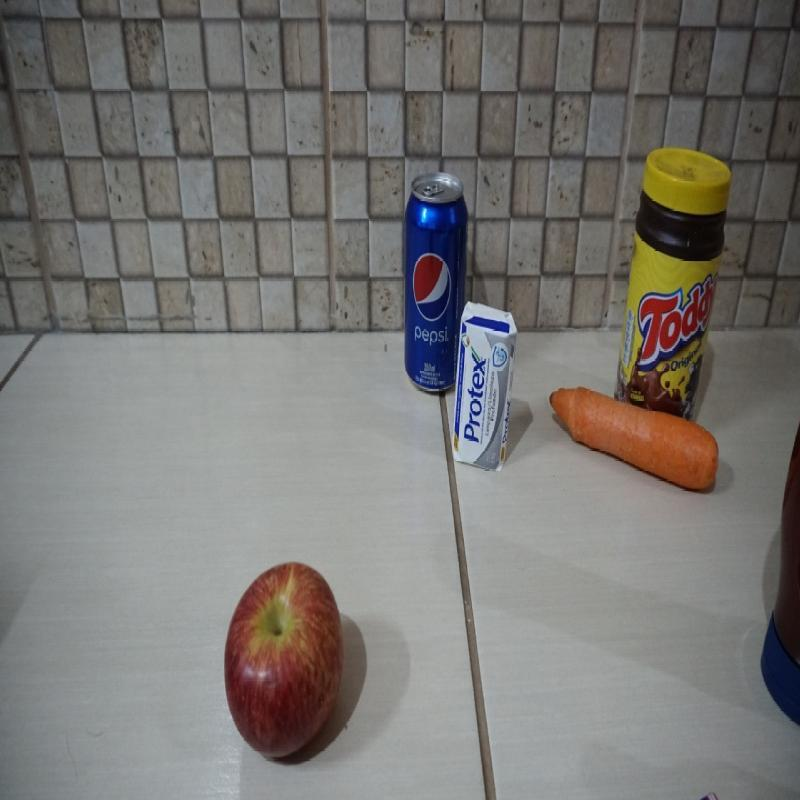Apple: (219, 556, 344, 754)
Carrot: (562, 404, 722, 496)
Chocolate Powder: (619, 142, 730, 406)
Ketchup: (760, 428, 800, 714)
Soap: (457, 299, 516, 469)
Soda can: (402, 171, 456, 393)
